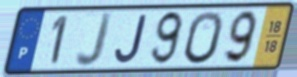1: (49, 13, 69, 67)
9: (148, 9, 187, 68), (222, 9, 259, 66)
J: (74, 10, 115, 70), (113, 13, 149, 66)
O: (182, 9, 225, 66)
